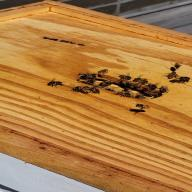Bee: (162, 62, 192, 84), (70, 82, 105, 96), (131, 101, 154, 116), (44, 76, 66, 91)
